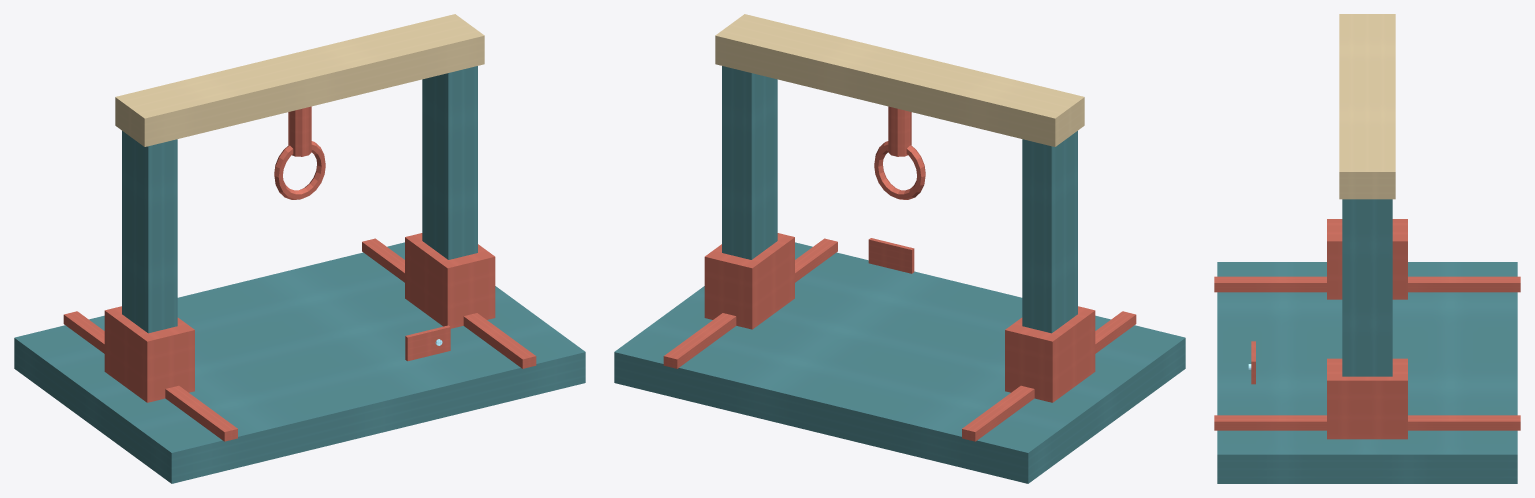
File: atlas100-s072-a02.lod1.glb
The picture shows the model from 3 angles, left to right: view 1: azimuth 30°, elevation 25°; view 2: azimuth 150°, elevation 25°; view 3: azimuth 270°, elevation 25°; orthographic projection. The views are drawn at different scales.
Visible parts, largest first — view 1: atlas100-s072-a02:part-000, atlas100-s072-a02:part-007, atlas100-s072-a02:part-003, atlas100-s072-a02:part-005, atlas100-s072-a02:part-004, atlas100-s072-a02:part-006, atlas100-s072-a02:part-002, atlas100-s072-a02:part-001, atlas100-s072-a02:part-009, atlas100-s072-a02:part-010, atlas100-s072-a02:part-008; view 2: atlas100-s072-a02:part-000, atlas100-s072-a02:part-007, atlas100-s072-a02:part-003, atlas100-s072-a02:part-005, atlas100-s072-a02:part-004, atlas100-s072-a02:part-006, atlas100-s072-a02:part-002, atlas100-s072-a02:part-001, atlas100-s072-a02:part-009, atlas100-s072-a02:part-010, atlas100-s072-a02:part-008; view 3: atlas100-s072-a02:part-000, atlas100-s072-a02:part-007, atlas100-s072-a02:part-005, atlas100-s072-a02:part-006, atlas100-s072-a02:part-001, atlas100-s072-a02:part-002, atlas100-s072-a02:part-004.
Part boxes in pixels (bbox=[...]): atlas100-s072-a02:part-000: bbox=[14, 242, 585, 483]; atlas100-s072-a02:part-007: bbox=[115, 14, 484, 146]; atlas100-s072-a02:part-003: bbox=[122, 131, 177, 333]; atlas100-s072-a02:part-005: bbox=[422, 66, 477, 259]; atlas100-s072-a02:part-004: bbox=[104, 306, 194, 402]; atlas100-s072-a02:part-006: bbox=[405, 233, 495, 328]; atlas100-s072-a02:part-002: bbox=[362, 238, 536, 368]; atlas100-s072-a02:part-001: bbox=[63, 311, 237, 441]; atlas100-s072-a02:part-009: bbox=[274, 141, 325, 199]; atlas100-s072-a02:part-010: bbox=[405, 325, 450, 361]; atlas100-s072-a02:part-008: bbox=[288, 106, 311, 156]; atlas100-s072-a02:part-000: bbox=[614, 242, 1185, 483]; atlas100-s072-a02:part-007: bbox=[715, 14, 1084, 146]; atlas100-s072-a02:part-003: bbox=[1022, 131, 1077, 333]; atlas100-s072-a02:part-005: bbox=[722, 66, 777, 259]; atlas100-s072-a02:part-004: bbox=[1005, 306, 1095, 402]; atlas100-s072-a02:part-006: bbox=[704, 233, 794, 329]; atlas100-s072-a02:part-002: bbox=[663, 238, 837, 368]; atlas100-s072-a02:part-001: bbox=[962, 311, 1136, 441]; atlas100-s072-a02:part-009: bbox=[874, 141, 925, 199]; atlas100-s072-a02:part-010: bbox=[868, 238, 914, 273]; atlas100-s072-a02:part-008: bbox=[888, 106, 911, 156]; atlas100-s072-a02:part-000: bbox=[1217, 262, 1517, 483]; atlas100-s072-a02:part-007: bbox=[1339, 14, 1395, 199]; atlas100-s072-a02:part-005: bbox=[1342, 199, 1392, 376]; atlas100-s072-a02:part-006: bbox=[1327, 358, 1407, 439]; atlas100-s072-a02:part-001: bbox=[1214, 276, 1520, 292]; atlas100-s072-a02:part-002: bbox=[1214, 415, 1520, 430]; atlas100-s072-a02:part-004: bbox=[1327, 219, 1407, 299].
Bounding box in the file's own units: 3.64 × 2.6 × 2.45.
4 materials, 4 textured.
